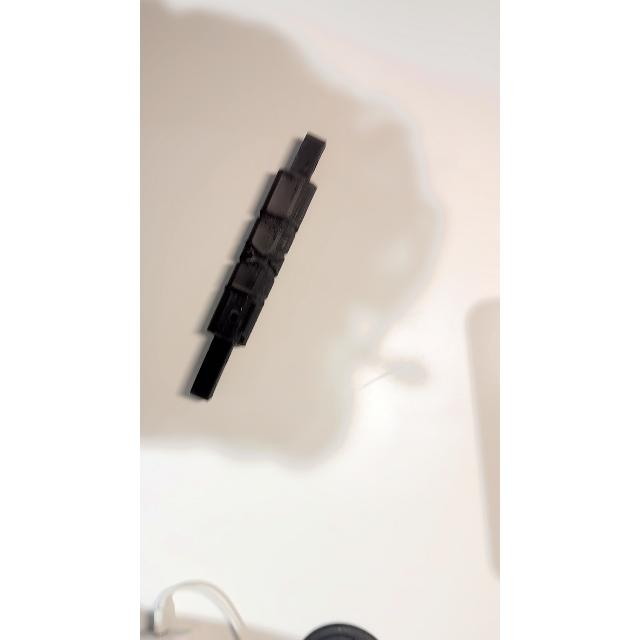Pieza_1: (178, 128, 338, 406)
